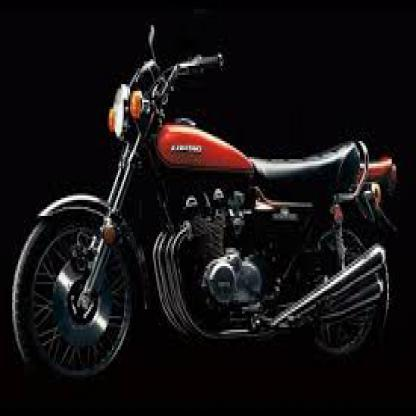Motorcycle: (6, 24, 407, 387)
